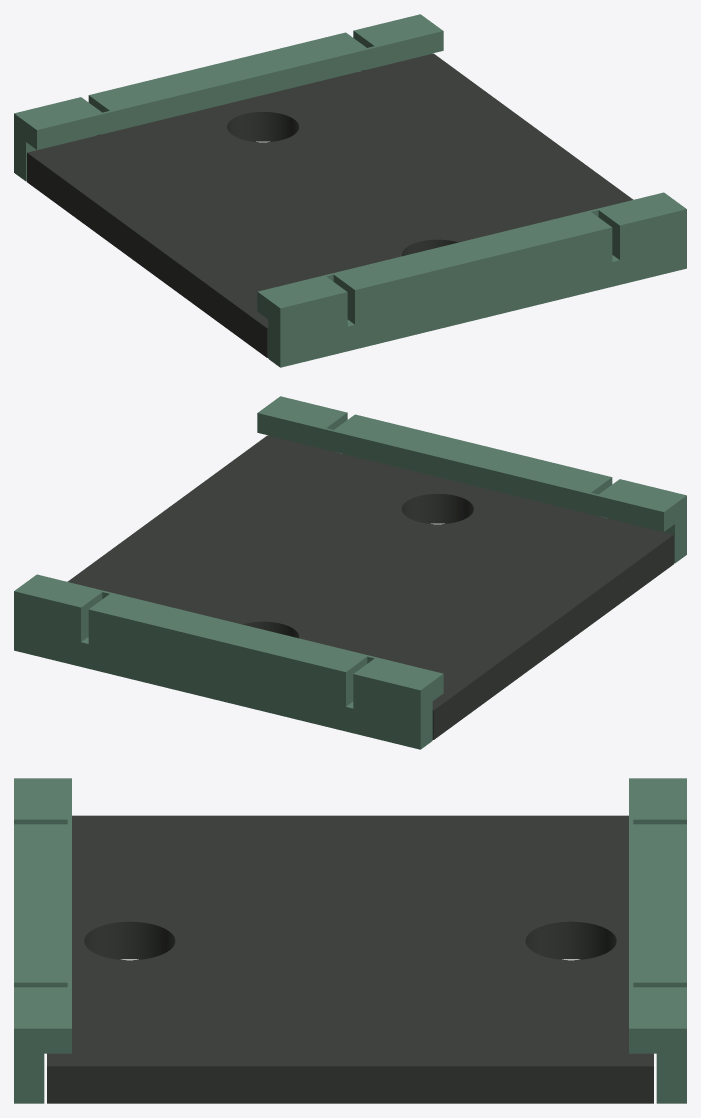
3 renders of one model, top to bottom at view 1: azimuth 30°, elevation 25°; view 2: azimuth 150°, elevation 25°; view 3: azimuth 270°, elevation 25°, orthographic. The views are drawn at different scales.
Parts seen in each view (by area): view 1: steel-rail-foot, edge-guide-A, edge-guide-B; view 2: steel-rail-foot, edge-guide-B, edge-guide-A; view 3: steel-rail-foot, edge-guide-A, edge-guide-B.
Boxes of the visible parts, x1,y1,x2,y2 form: steel-rail-foot: [27, 53, 633, 357]; edge-guide-A: [257, 192, 686, 367]; edge-guide-B: [14, 14, 443, 181]; steel-rail-foot: [67, 435, 673, 739]; edge-guide-B: [14, 574, 443, 749]; edge-guide-A: [257, 396, 686, 563]; steel-rail-foot: [47, 815, 653, 1103]; edge-guide-A: [14, 778, 71, 1103]; edge-guide-B: [629, 778, 686, 1103].
Bounding box in the file's own units: 0.043 × 0.006 × 0.0488.
